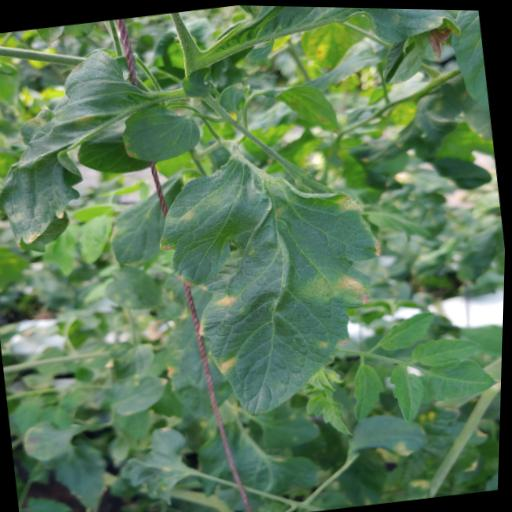Leaf Mold: (144, 139, 403, 429), (0, 42, 174, 262)
